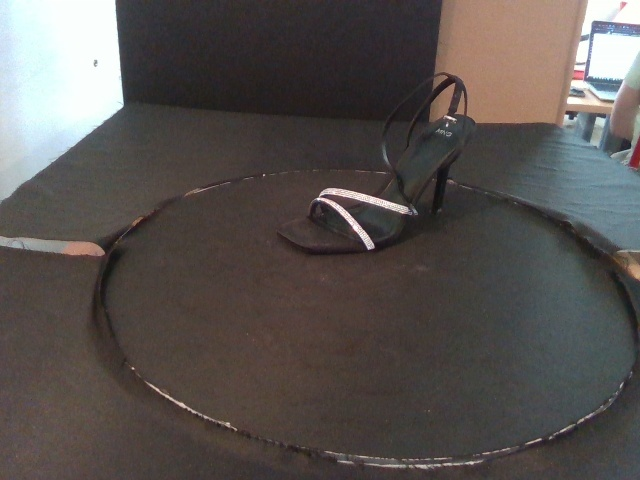shoe: (275, 71, 478, 256)
